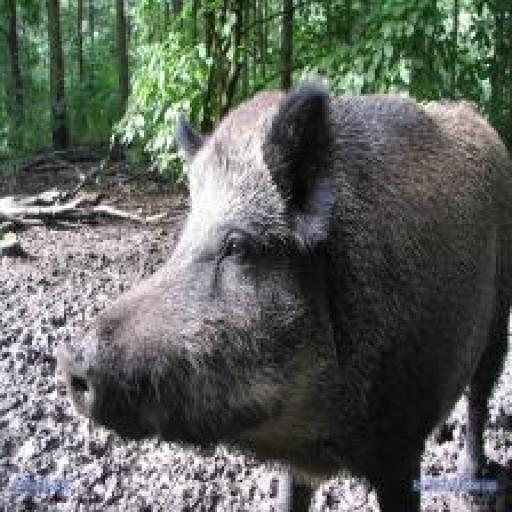Pig: (55, 73, 512, 510)
